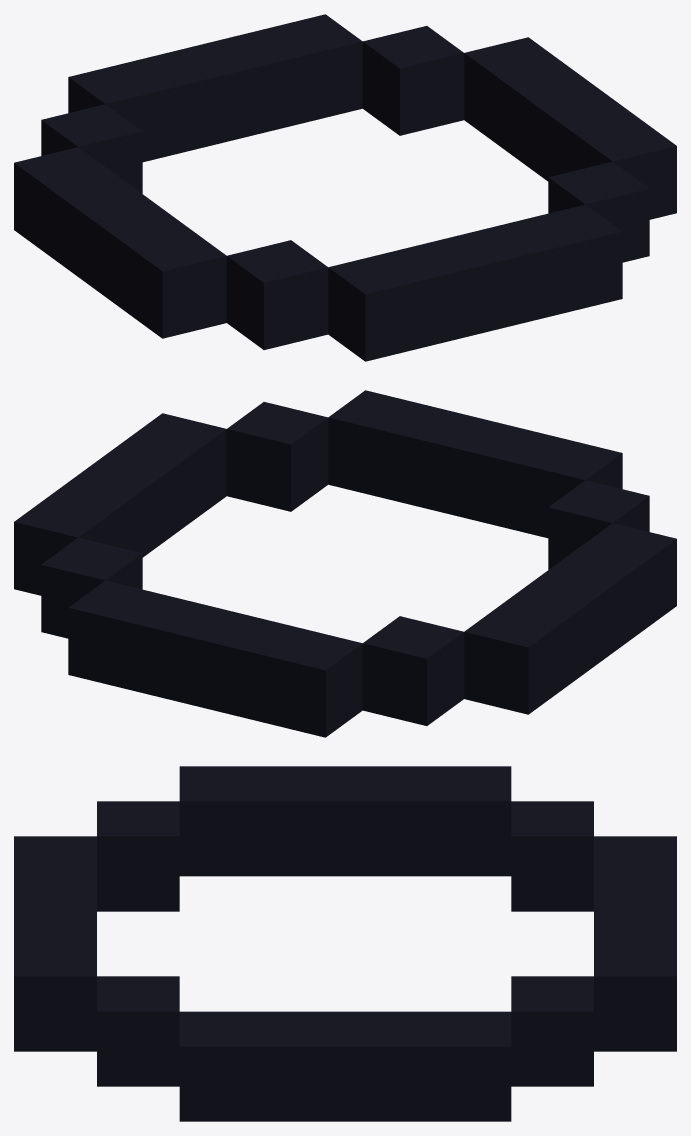
File: BombButtonCell.obj
3 renders of one model, top to bottom at view 1: azimuth 30°, elevation 25°; view 2: azimuth 150°, elevation 25°; view 3: azimuth 270°, elevation 25°, orthographic. The views are drawn at different scales.
Size of the model in its own units: 0.8 by 0.1 by 0.8.
1 material, 1 textured.
